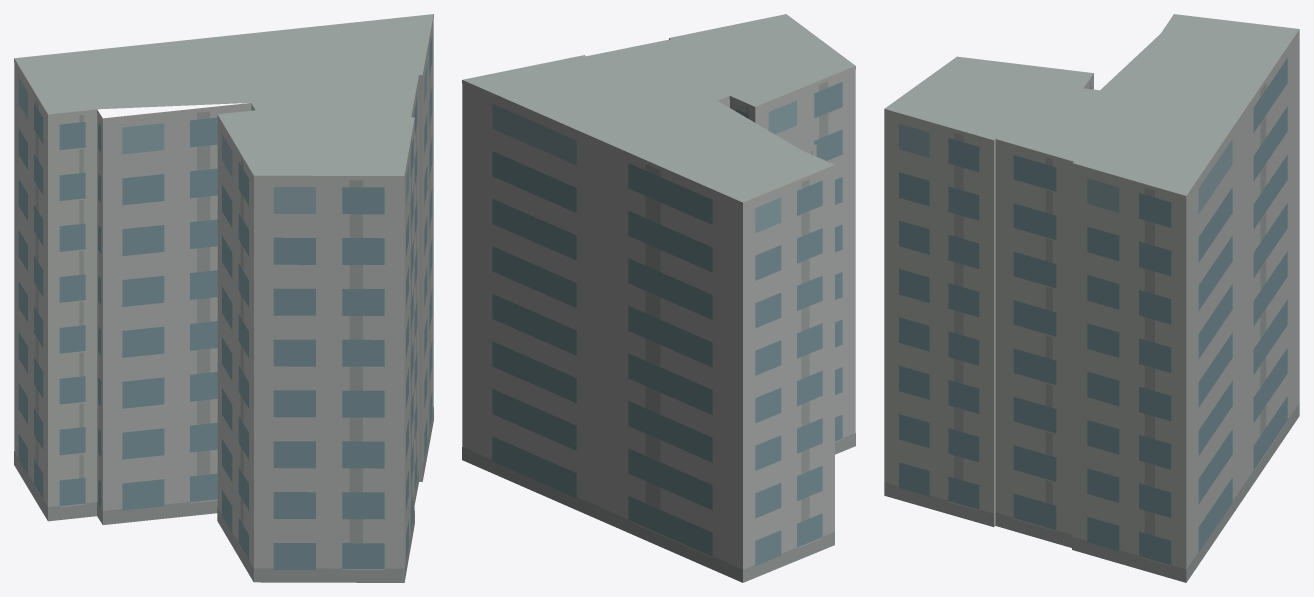
File: survey-upis-32845108.glb
The picture shows the model from 3 angles, left to right: view 1: azimuth 30°, elevation 25°; view 2: azimuth 150°, elevation 25°; view 3: azimuth 270°, elevation 25°; orthographic projection. The views are drawn at different scales.
Parts seen in each view (by area): view 1: survey-upis-32845108.tmp; view 2: survey-upis-32845108.tmp; view 3: survey-upis-32845108.tmp.
Part boxes in pixels (bbox=[...]): survey-upis-32845108.tmp: bbox=[14, 14, 433, 582]; survey-upis-32845108.tmp: bbox=[462, 14, 855, 582]; survey-upis-32845108.tmp: bbox=[884, 14, 1299, 582].
Bounding box in the file's own units: 23.67 × 23.45 × 22.83.
